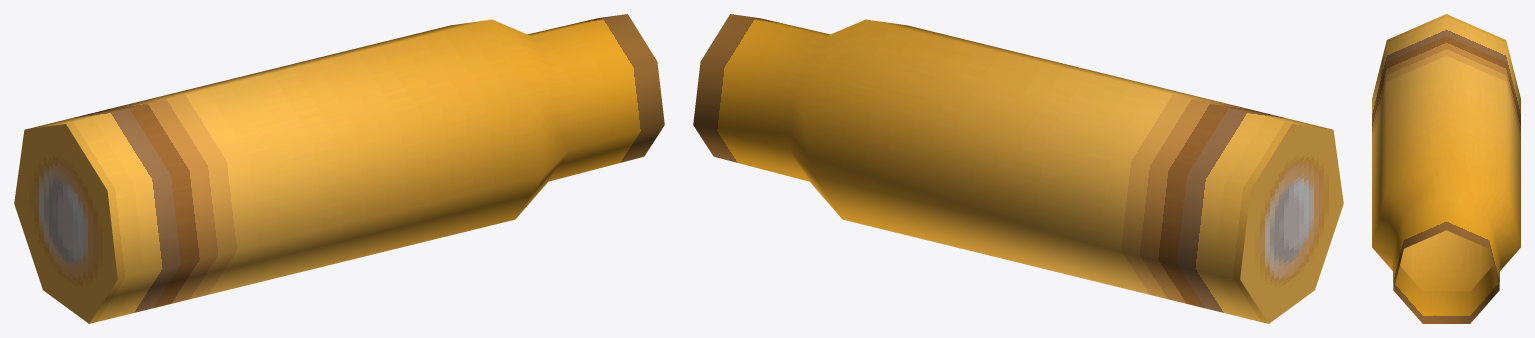
Rendered from 57Round_Spent.fbx.
The picture shows the model from 3 angles, left to right: view 1: azimuth 30°, elevation 25°; view 2: azimuth 150°, elevation 25°; view 3: azimuth 270°, elevation 25°; orthographic projection. The views are drawn at different scales.
Visible parts, largest first — view 1: 57ammo; view 2: 57ammo; view 3: 57ammo.
Boxes of the visible parts, bbox=[...] form: 57ammo: bbox=[14, 14, 664, 323]; 57ammo: bbox=[693, 14, 1343, 323]; 57ammo: bbox=[1372, 14, 1520, 323].
Bounding box in the file's own units: 0.057 × 0.0178 × 0.0182.
